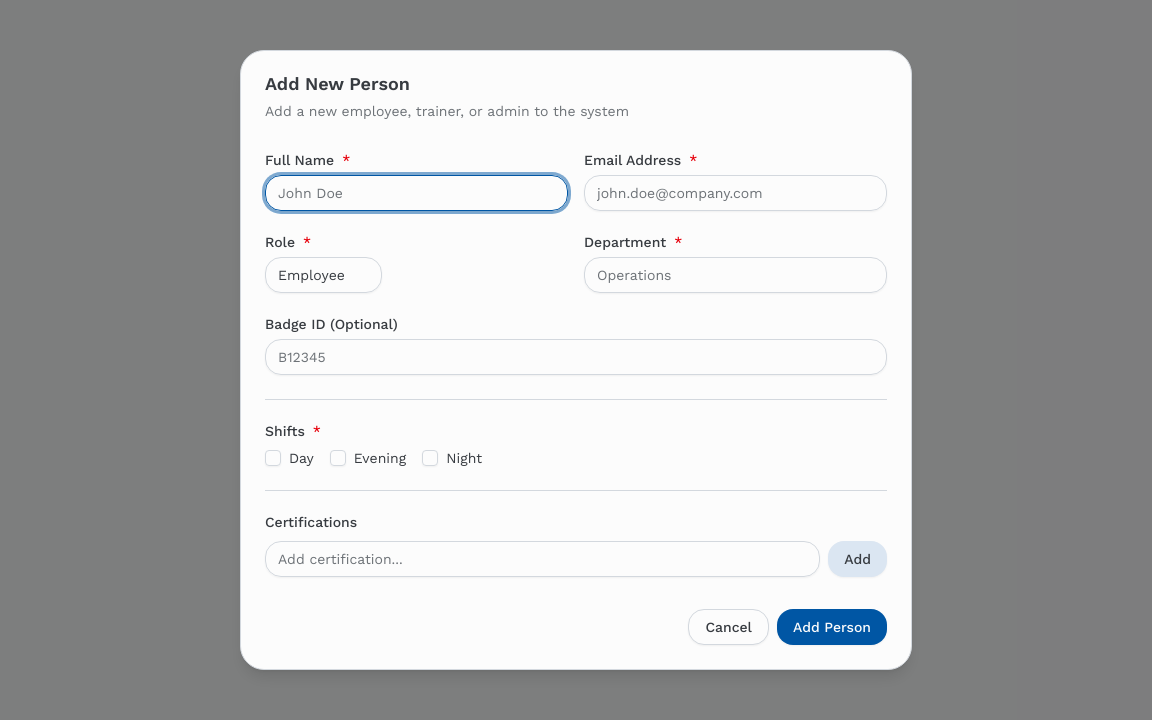
Test case: AddPersonDialog › shows validation errors and toast when required fields are missing
Click the button "Add Person".
click(832, 627)  # box [777, 609, 887, 645]
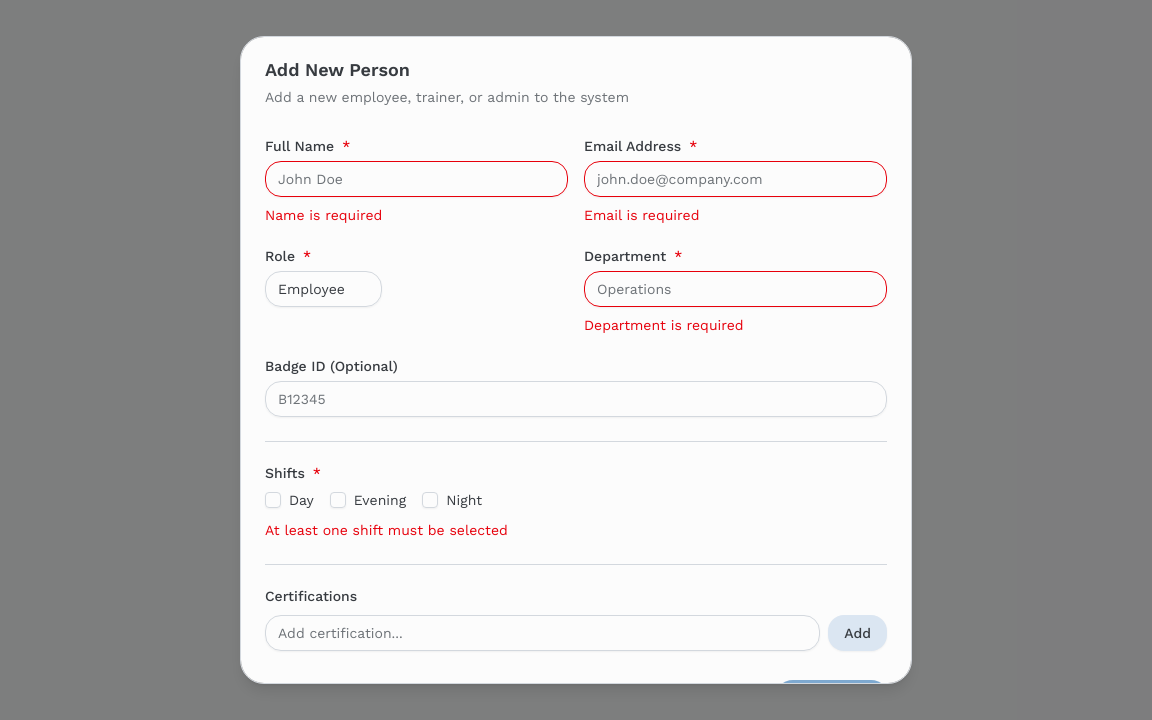
Now the text "Name is required" is shown, box [265, 207, 382, 223]
Now the text "Email is required" is shown, box [584, 207, 699, 223]
Now the text "Department is required" is shown, box [584, 317, 744, 333]
